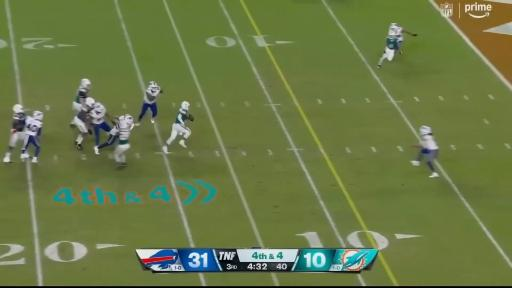Helmet: (419, 125, 432, 136), (80, 79, 91, 89), (13, 104, 23, 113), (33, 111, 43, 120), (149, 81, 158, 91), (125, 115, 134, 124), (86, 98, 94, 107), (388, 31, 396, 39), (96, 103, 103, 112), (120, 122, 129, 129), (182, 102, 189, 110), (390, 24, 398, 31)
Jersey: (90, 104, 106, 124), (144, 86, 161, 104), (26, 118, 42, 136), (119, 120, 130, 145), (421, 134, 438, 150), (77, 106, 93, 122), (12, 113, 26, 131), (75, 87, 88, 104), (175, 109, 188, 125), (386, 37, 398, 50), (388, 25, 398, 36), (396, 27, 402, 38)
Player: (163, 102, 194, 153), (95, 115, 134, 154), (411, 126, 439, 177), (3, 104, 26, 162), (21, 111, 43, 162), (136, 82, 162, 125), (74, 97, 95, 150), (114, 115, 133, 166), (91, 103, 113, 146), (388, 23, 417, 54), (378, 36, 398, 68), (73, 79, 90, 114)
